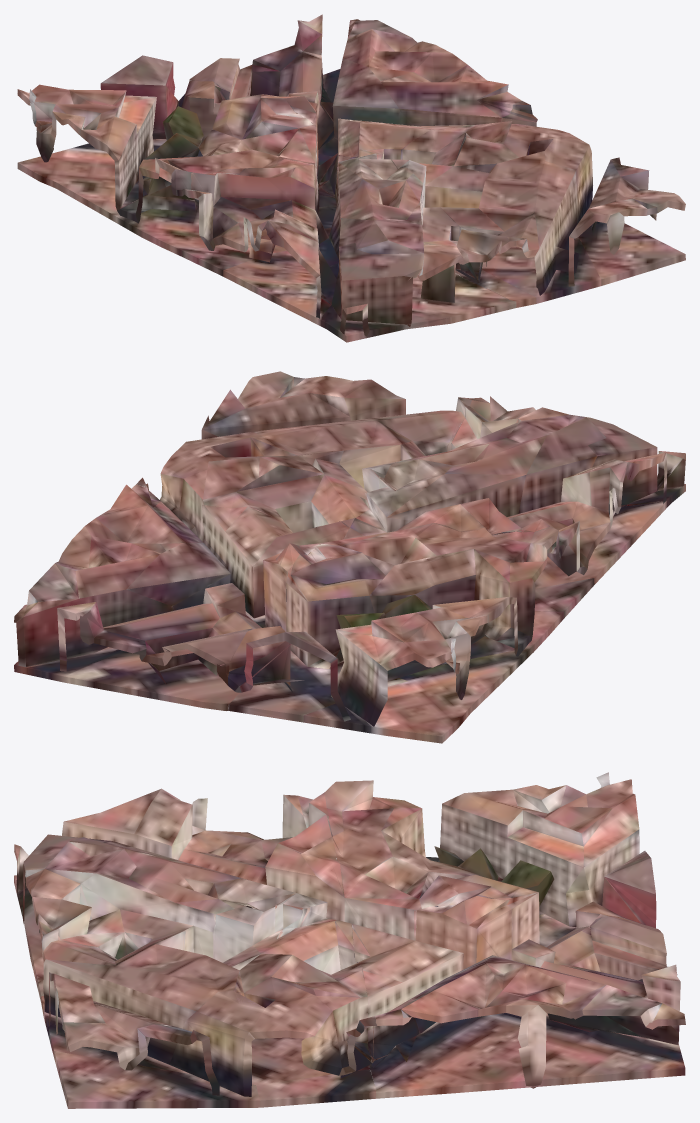
3 views of the same model, one above another, from view 1: azimuth 30°, elevation 25°; view 2: azimuth 150°, elevation 25°; view 3: azimuth 270°, elevation 25° (orthographic). The views are drawn at different scales.
Visible parts, largest first — view 1: Mesh_0; view 2: Mesh_0; view 3: Mesh_0.
Part boxes in pixels (left/top/right/bottom): Mesh_0: left=17, top=14, right=685, bottom=342; Mesh_0: left=14, top=371, right=685, bottom=743; Mesh_0: left=14, top=772, right=685, bottom=1108.
Bounding box in the file's own units: 134 × 33 × 165.
1 material, 1 textured.
